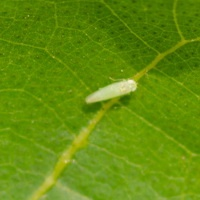insect: (85, 80, 136, 102)
